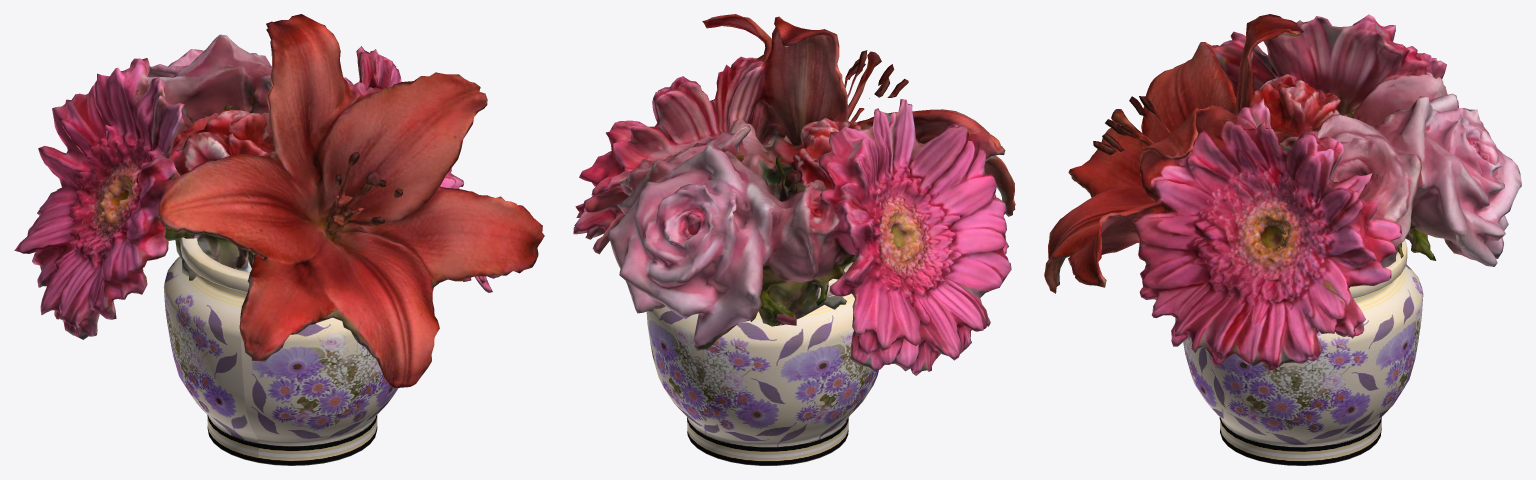
File: flores.glb
The picture shows the model from 3 angles, left to right: view 1: azimuth 30°, elevation 25°; view 2: azimuth 150°, elevation 25°; view 3: azimuth 270°, elevation 25°; orthographic projection. The views are drawn at different scales.
Visible parts, largest first — view 1: flowers, vase; view 2: flowers, vase; view 3: flowers, vase.
Boxes of the visible parts, box(x1,y1,x2,y2) form: flowers: box(14, 14, 544, 388); vase: box(163, 237, 398, 465); flowers: box(573, 14, 1015, 375); vase: box(646, 262, 878, 465); flowers: box(1044, 14, 1521, 370); vase: box(1183, 240, 1423, 465).
Size of the model in its own units: 0.1896 by 0.1831 by 0.197.
Materials: 2 (2 with a texture image).
